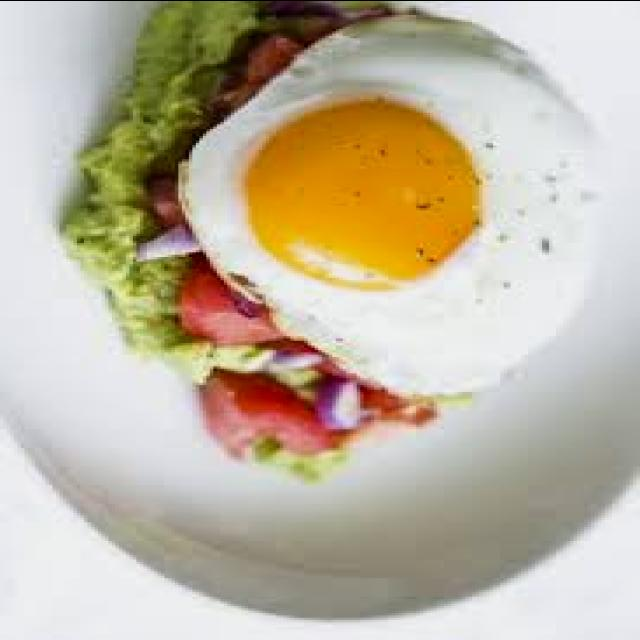telur ceplok: (175, 14, 609, 396)
